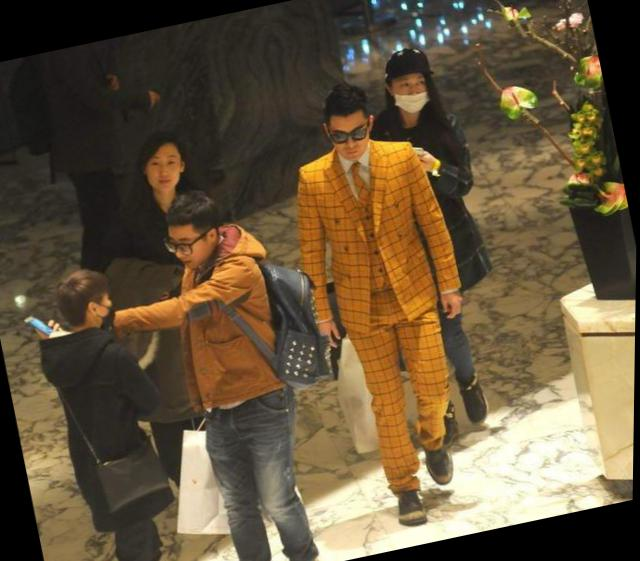NONE: (165, 223, 215, 275), (327, 117, 375, 164), (145, 151, 189, 197)
OK: (80, 292, 123, 335)
WRONG: (388, 72, 435, 118)
